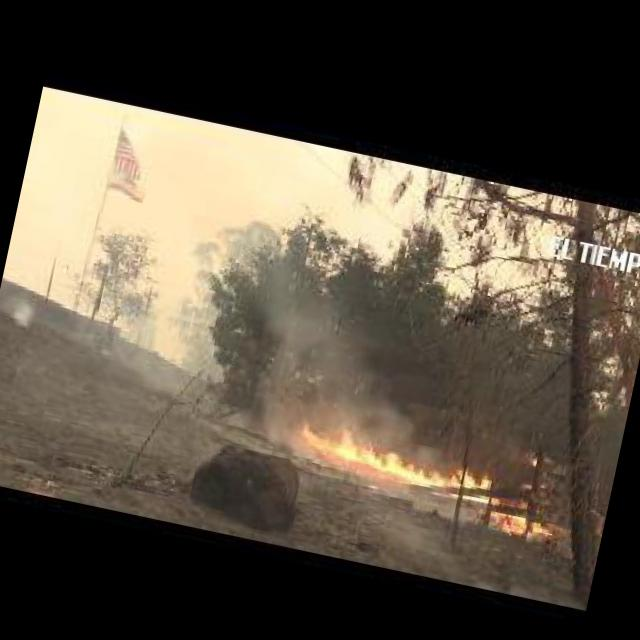fire: (288, 413, 506, 501), (494, 508, 554, 542), (530, 454, 539, 466)
smoke: (217, 287, 432, 427)
